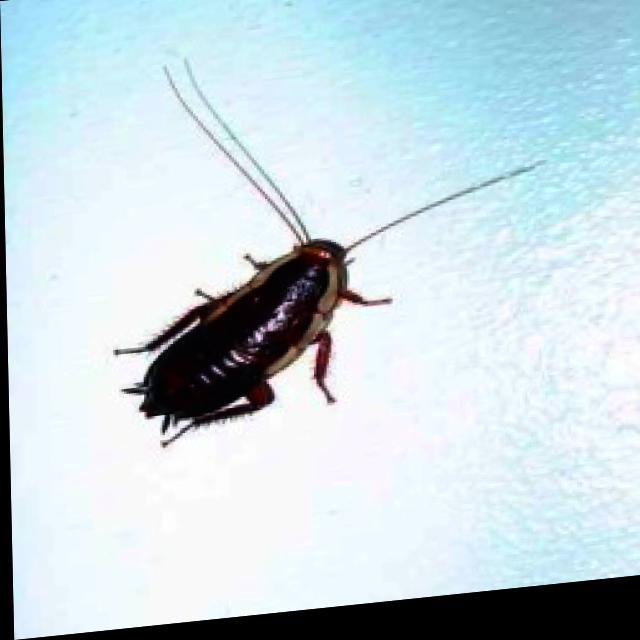cockroach: (124, 166, 381, 465)
